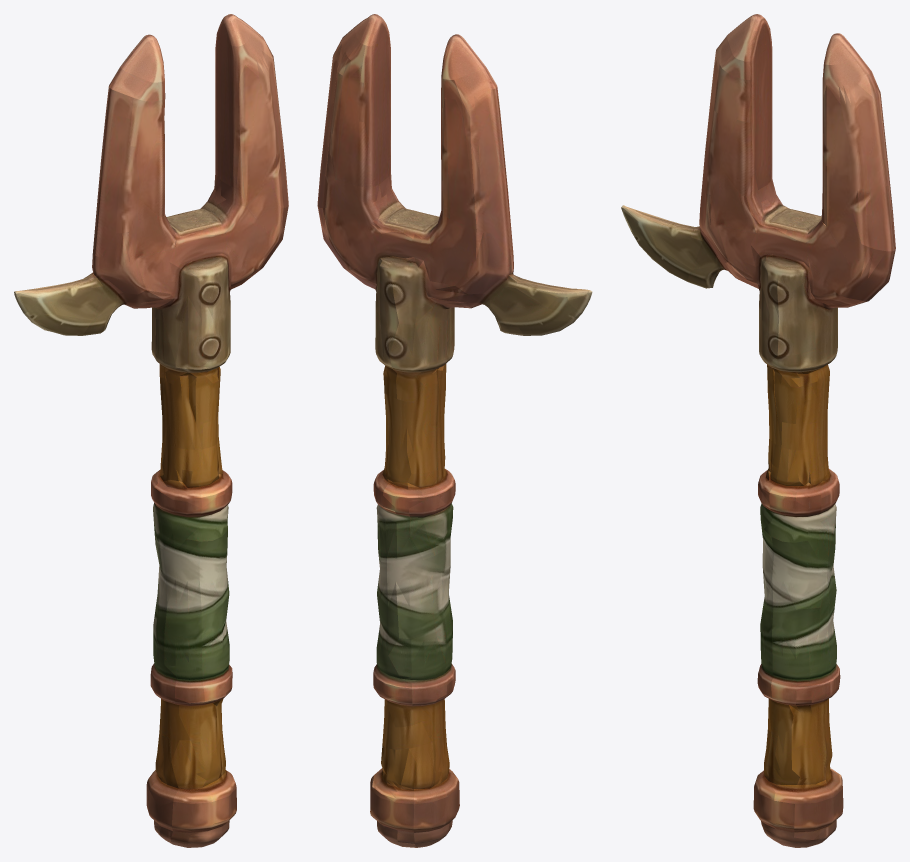
The model's file is npc_acc_rod_pike.glb.
The picture shows the model from 3 angles, left to right: view 1: azimuth 30°, elevation 25°; view 2: azimuth 150°, elevation 25°; view 3: azimuth 330°, elevation 25°; orthographic projection.
Visible parts, largest first — view 1: output_unwrapped; view 2: output_unwrapped; view 3: output_unwrapped.
Boxes of the visible parts, <box> form: output_unwrapped: <box>14,14,288,847</box>; output_unwrapped: <box>317,14,592,847</box>; output_unwrapped: <box>621,14,895,847</box>.
Bounding box in the file's own units: 0.6663 × 1.9 × 0.1914.
1 material, 1 textured.
